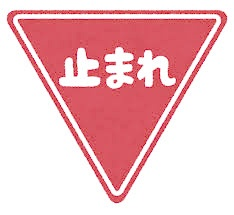Regulatory_sign_triangle: (3, 7, 225, 213)
